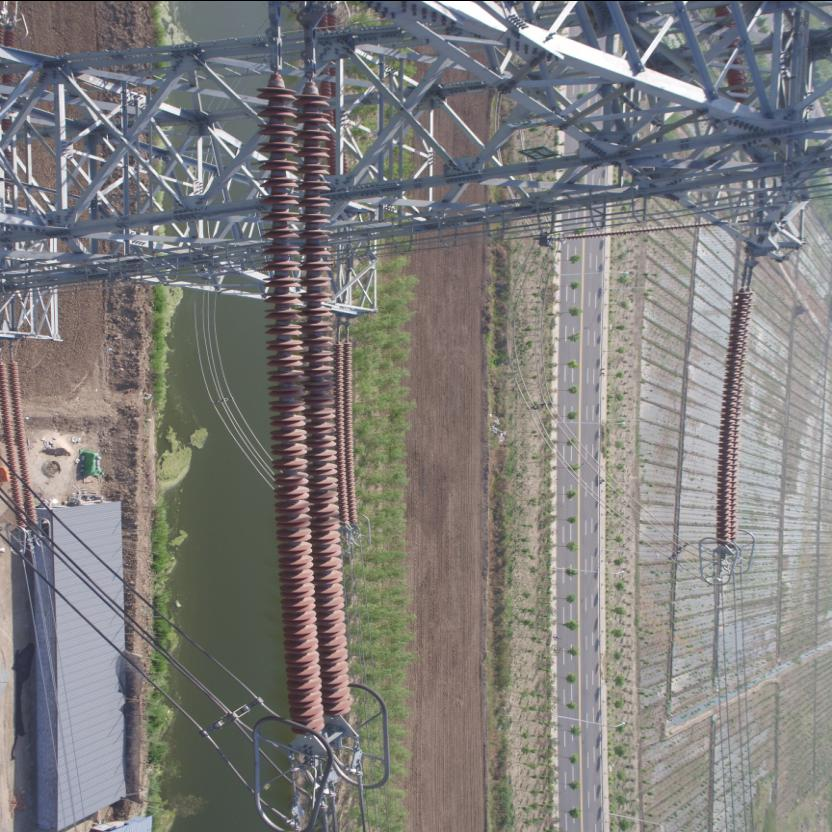insulator: (258, 26, 368, 747), (708, 275, 763, 551), (336, 329, 360, 527)
